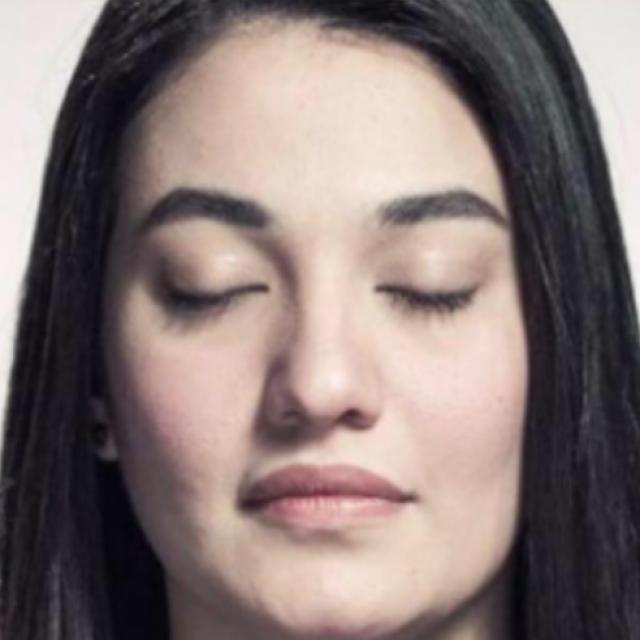close: (362, 172, 511, 348), (126, 177, 284, 340)
